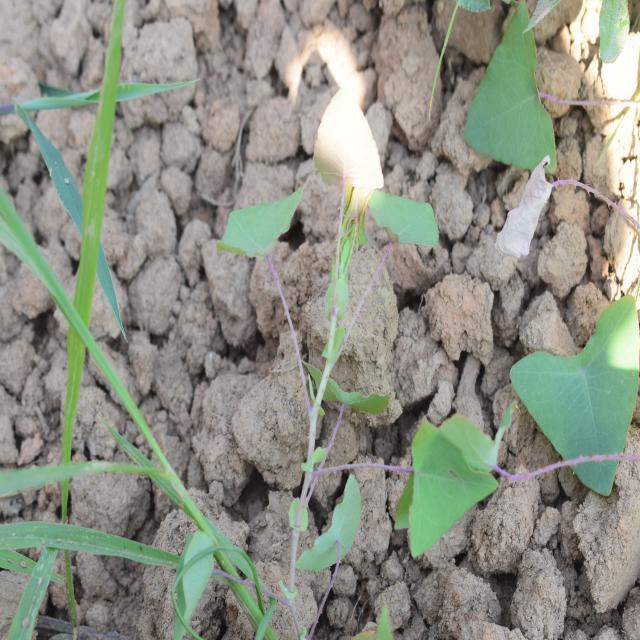Asiatic_Smartweed: (216, 160, 428, 300), (509, 294, 635, 504), (461, 11, 565, 182)
